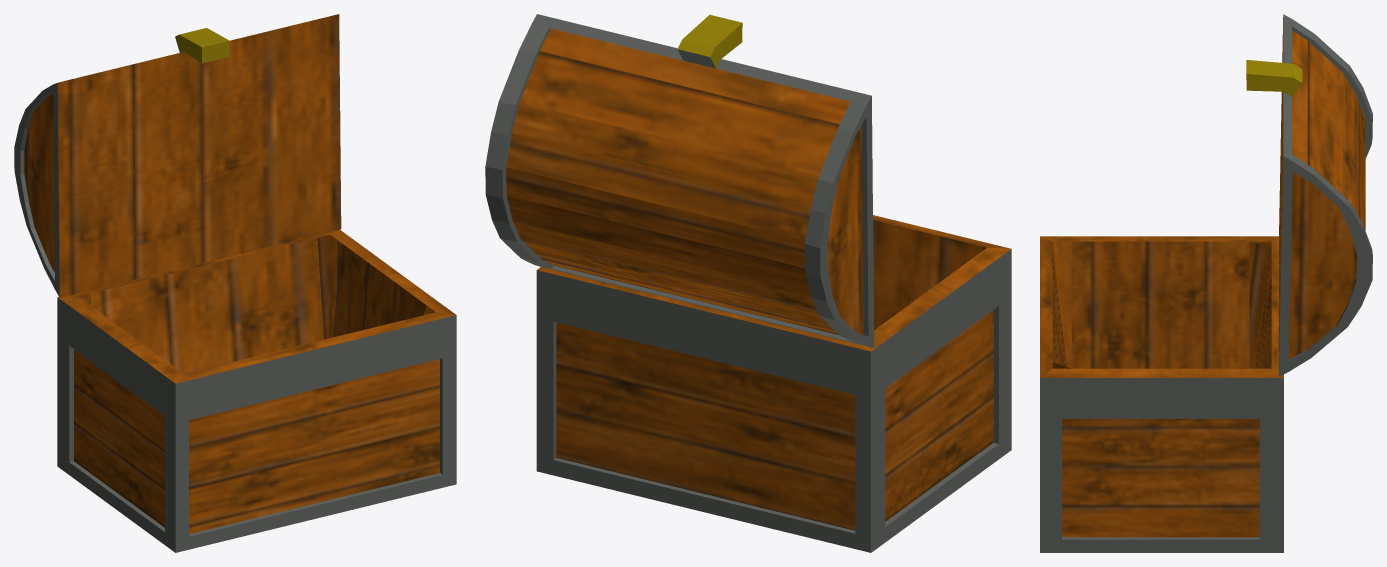
The model's file is OpenChest.glb.
3 renders of one model, left to right at view 1: azimuth 30°, elevation 25°; view 2: azimuth 150°, elevation 25°; view 3: azimuth 270°, elevation 25°, orthographic. The views are drawn at different scales.
Parts seen in each view (by area): view 1: OpenChest.001; view 2: OpenChest.001; view 3: OpenChest.001.
Boxes of the visible parts, bbox=[...] form: OpenChest.001: bbox=[14, 14, 456, 552]; OpenChest.001: bbox=[485, 14, 1011, 552]; OpenChest.001: bbox=[1040, 14, 1372, 552].
Bounding box in the file's own units: 0.686 × 0.9352 × 0.6799.
3 materials, 1 textured.
